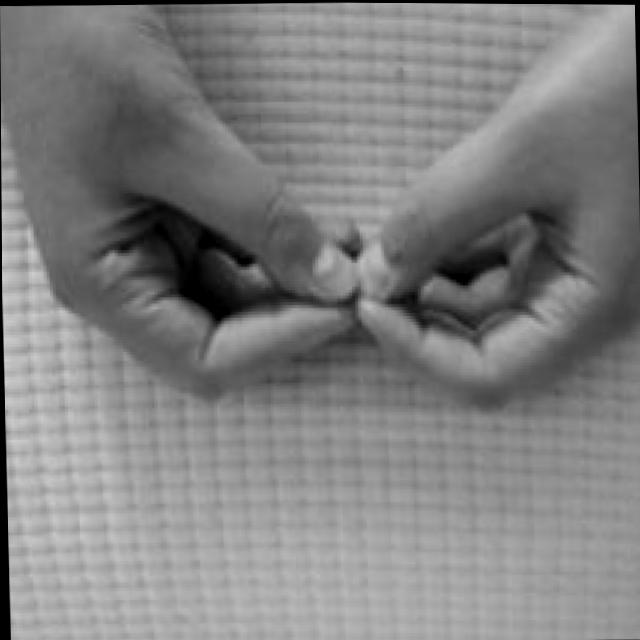B: (0, 0, 640, 417)
